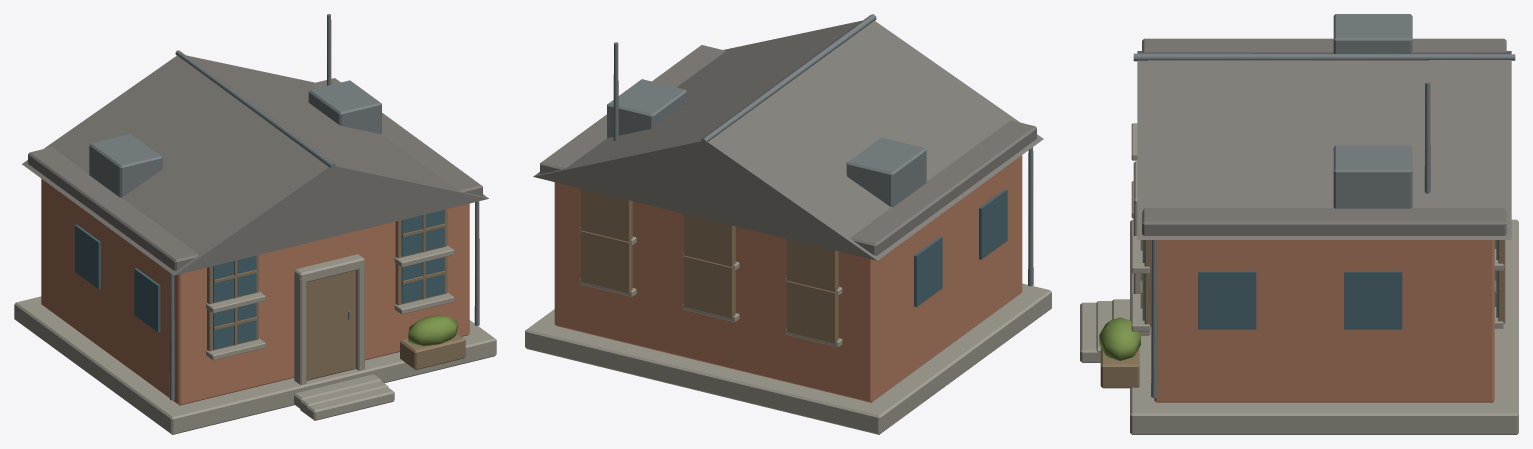
The model's file is bld_maison_a06.glb.
3 views of the same model, side by side, from view 1: azimuth 30°, elevation 25°; view 2: azimuth 150°, elevation 25°; view 3: azimuth 270°, elevation 25° (orthographic). The views are drawn at different scales.
Visible parts, largest first — view 1: bld_maison_a06; view 2: bld_maison_a06; view 3: bld_maison_a06.
Part boxes in pixels (x1=…): bld_maison_a06: x1=14, y1=14, x2=496, y2=434; bld_maison_a06: x1=525, y1=14, x2=1051, y2=434; bld_maison_a06: x1=1080, y1=14, x2=1518, y2=434.
Bounding box in the file's own units: 3.8 × 2.96 × 3.61.
